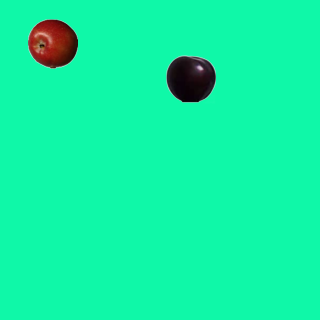Apple Braeburn: (27, 18, 77, 68)
Cherry Wax Black: (165, 53, 215, 103)
